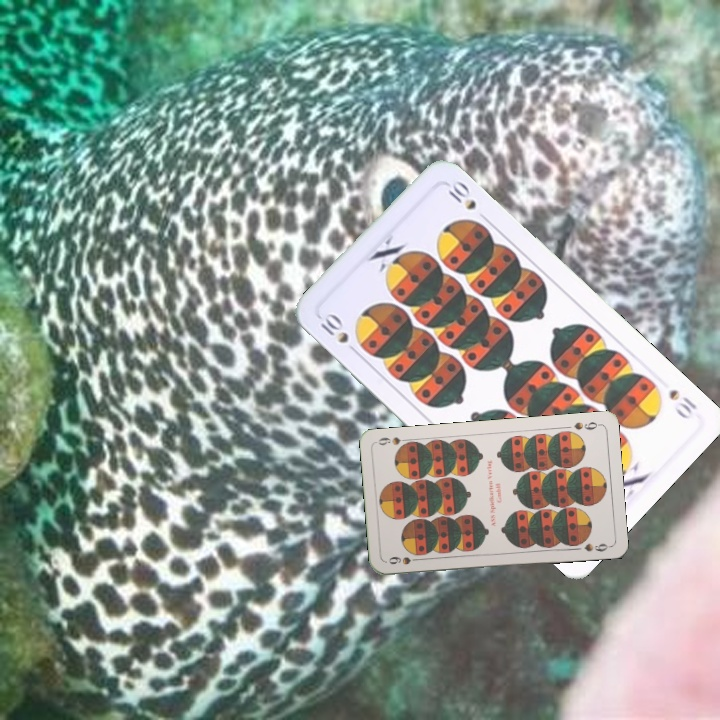S10: (314, 308, 362, 358), (664, 385, 700, 422)
S9: (385, 553, 424, 567), (570, 418, 602, 433)
